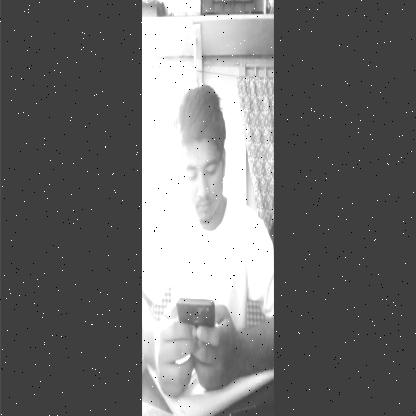Normal: (172, 83, 226, 231)
